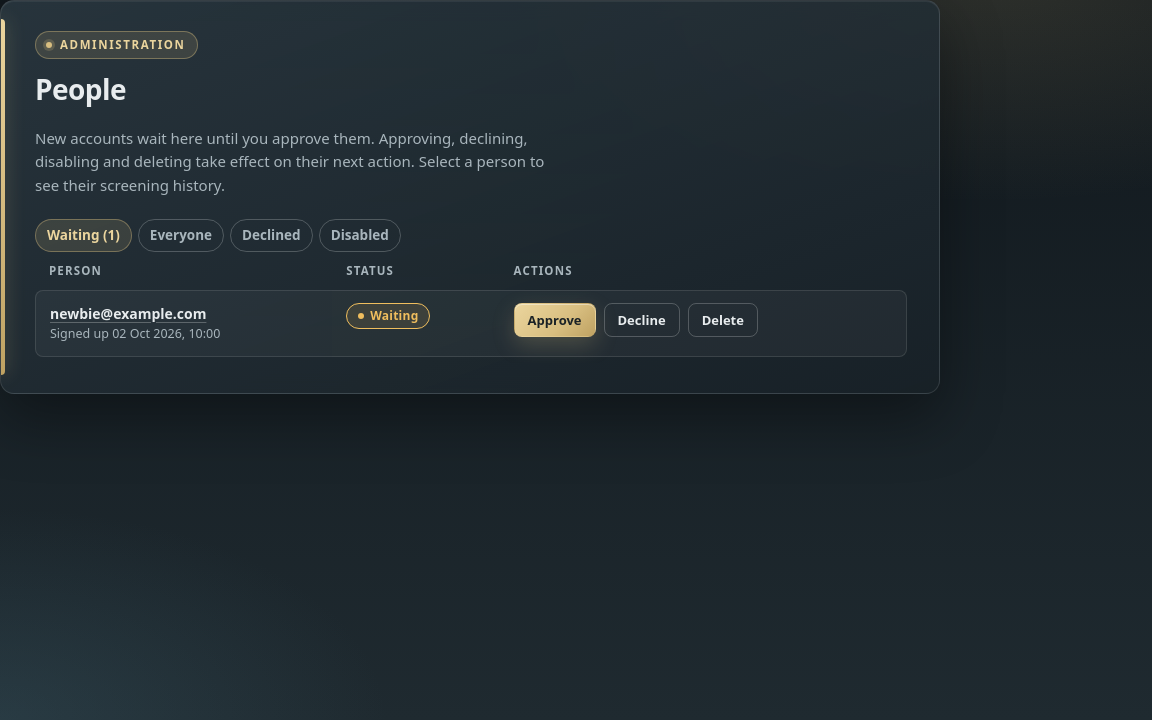
Test case: People › offers no way to decline, disable, delete or demote yourself
expect the button "newbie@example.com" is shown: met, box 50,303 -> 206,324
Step 1. Click the button "Everyone" → (181, 235), box 138,219 -> 224,252
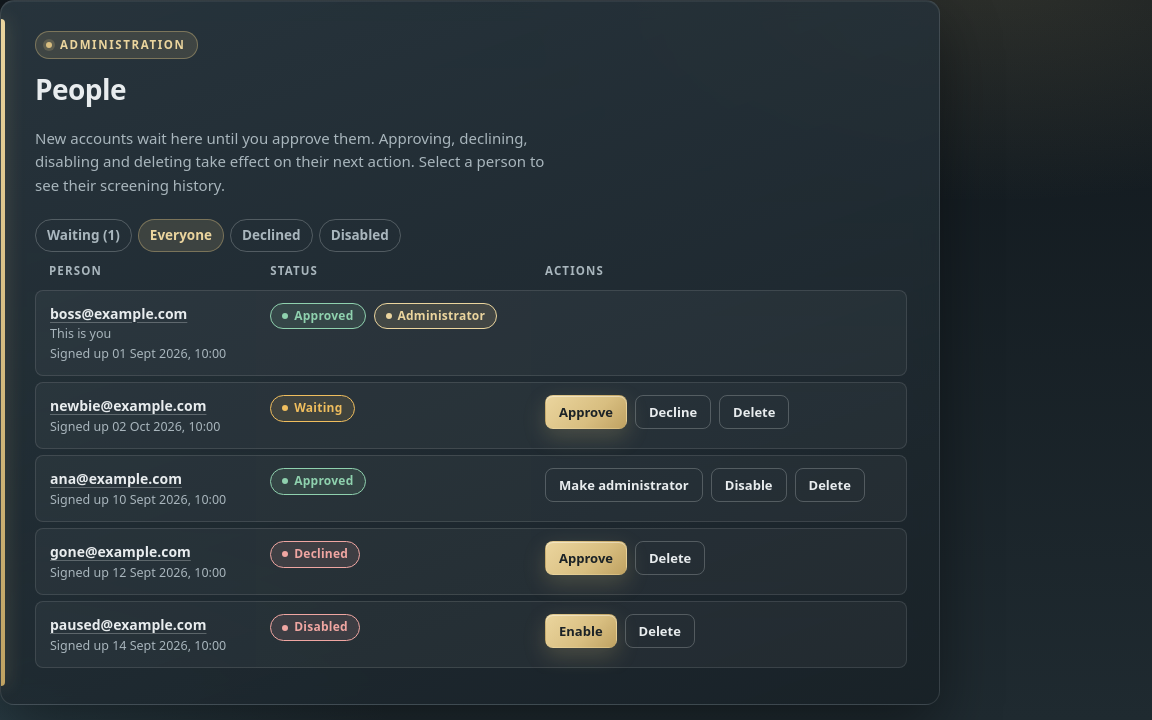
expect the text "This is you" is shown: met, box 50,325 -> 111,342
